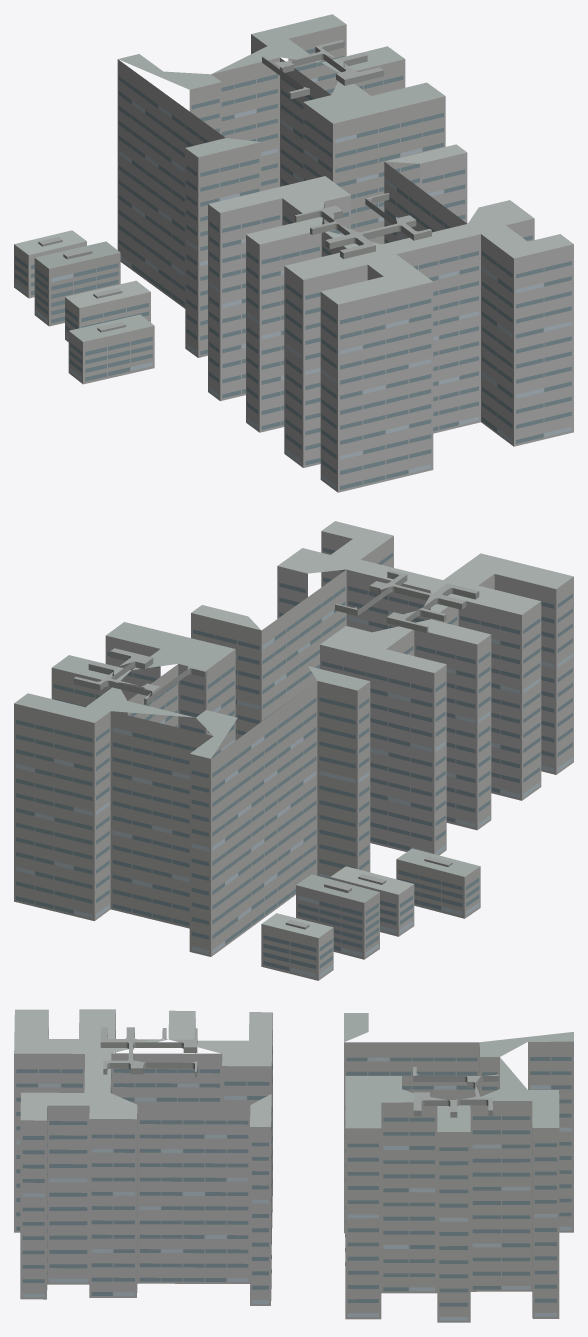
File: apt-a10022756.glb
3 renders of one model, top to bottom at view 1: azimuth 30°, elevation 25°; view 2: azimuth 150°, elevation 25°; view 3: azimuth 270°, elevation 25°, orthographic. The views are drawn at different scales.
Parts seen in each view (by area): view 1: apt-a10022756; view 2: apt-a10022756; view 3: apt-a10022756.
Boxes of the visible parts, x1,y1,x2,y2 form: apt-a10022756: (14, 14, 573, 492); apt-a10022756: (14, 521, 573, 980); apt-a10022756: (14, 1009, 573, 1322).
Bounding box in the file's own units: 153 × 82 × 212.
